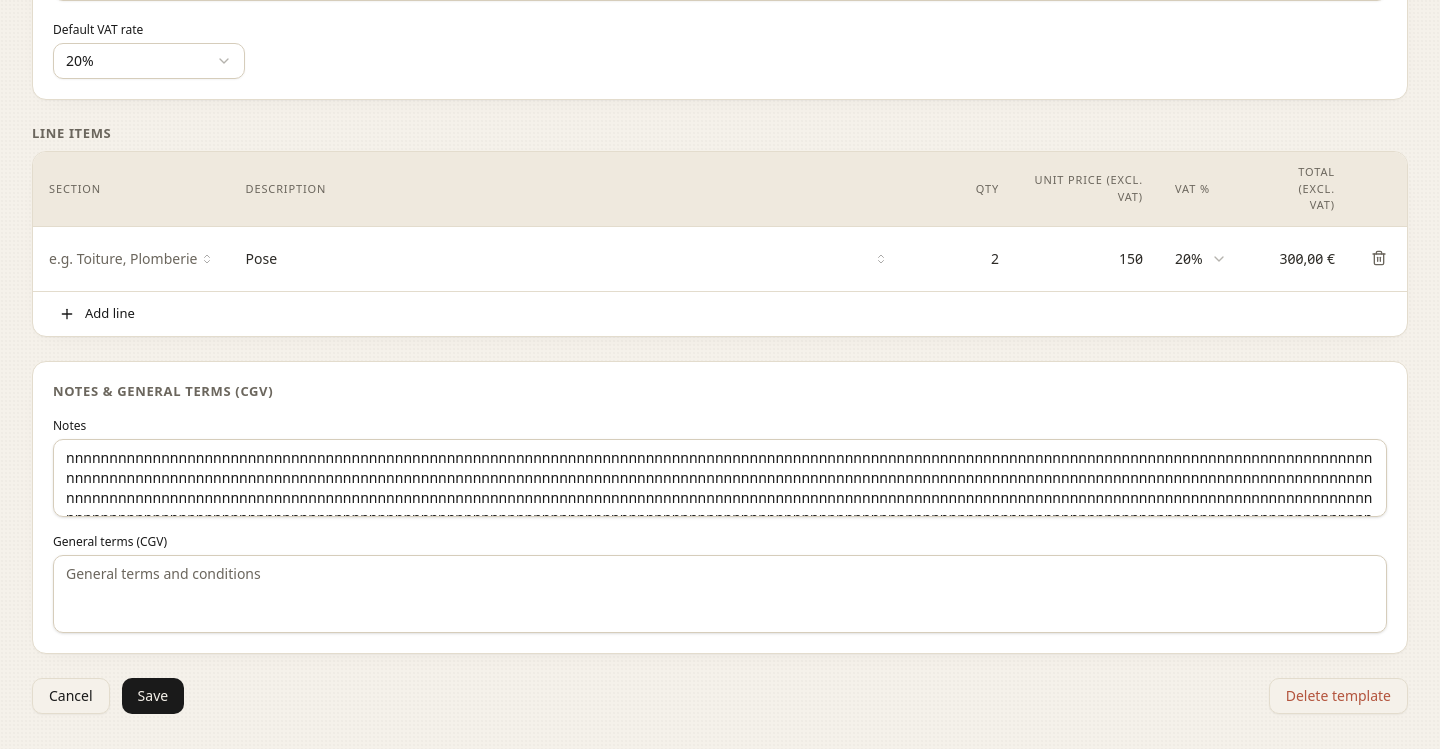
BillingTemplateForm — notes and terms caps › refuses to save notes longer than a document accepts
The width and height of the screenshot is (1440, 749).
(page scrolled)
Click the button "Save": [153, 696] box [122,678,184,714]
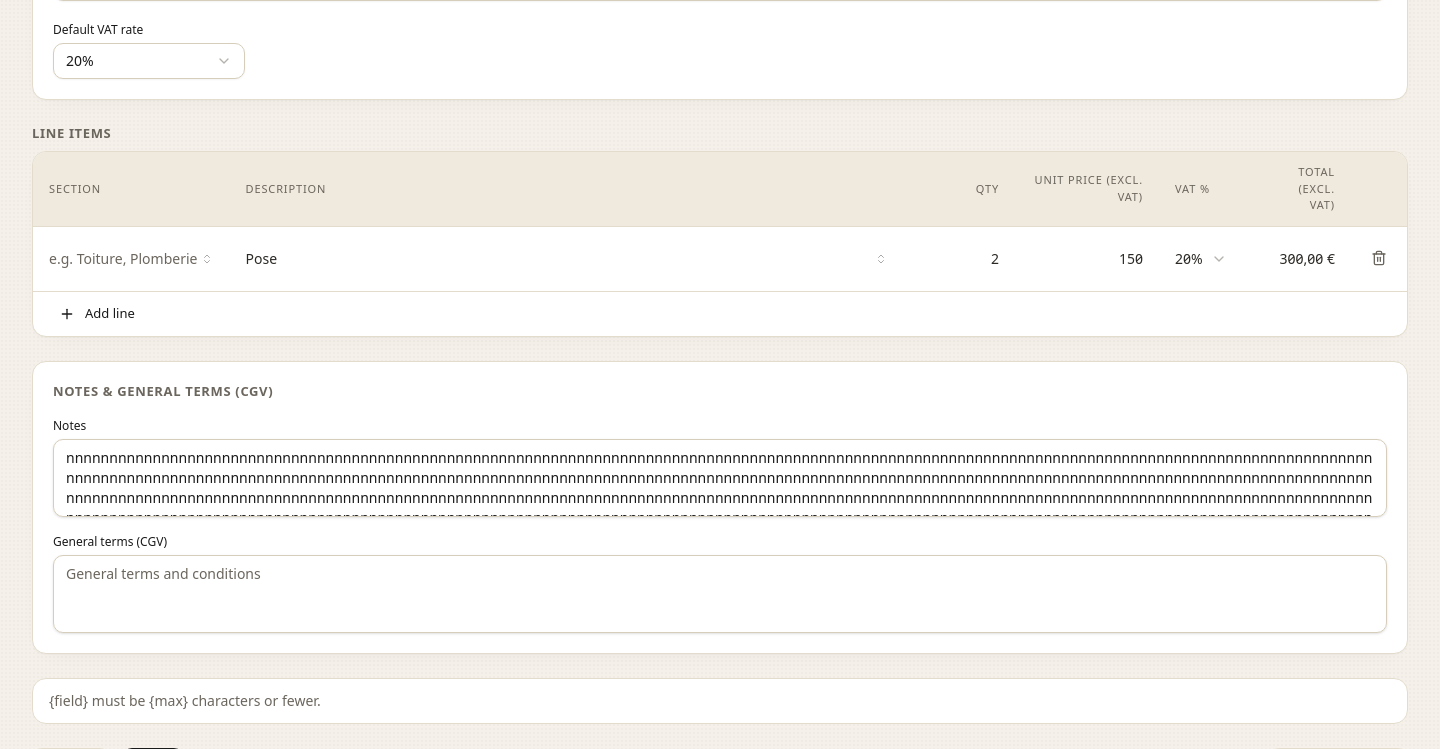
Check: the text "{field} must be {max} characters or fewer." is shown, box [49,691,321,710]
